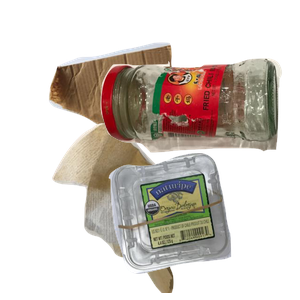cardboard: (46, 40, 226, 179)
glass: (98, 56, 300, 201)
plastic: (106, 151, 300, 300)
trash: (50, 120, 219, 300)
